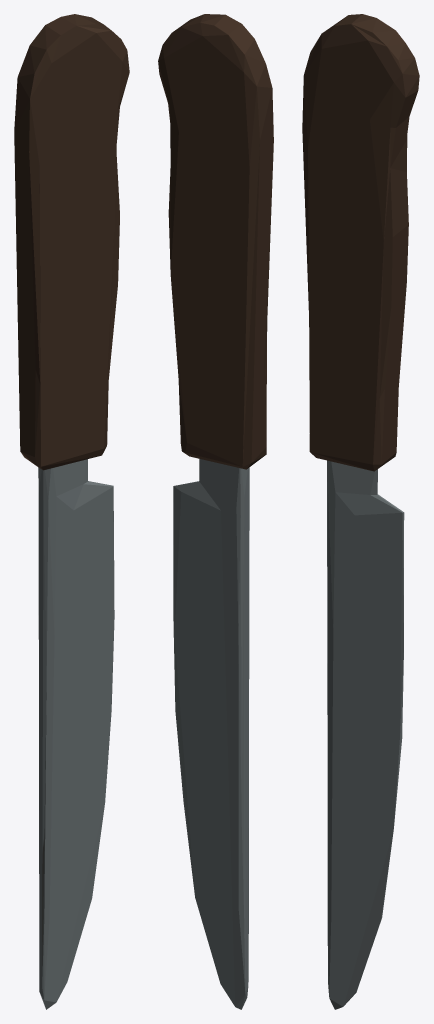
The model's file is Knife01.fbx.
3 views of the same model, side by side, from view 1: azimuth 30°, elevation 25°; view 2: azimuth 150°, elevation 25°; view 3: azimuth 330°, elevation 25° (orthographic).
Visible parts, largest first — view 1: Knife01LowPoly; view 2: Knife01LowPoly; view 3: Knife01LowPoly.
Part boxes in pixels (left/top/right/bottom): Knife01LowPoly: left=14, top=14, right=129, bottom=1009; Knife01LowPoly: left=158, top=14, right=273, bottom=1009; Knife01LowPoly: left=302, top=14, right=419, bottom=1009.
Bounding box in the file's own units: 2.29 × 21.16 × 0.7804.
